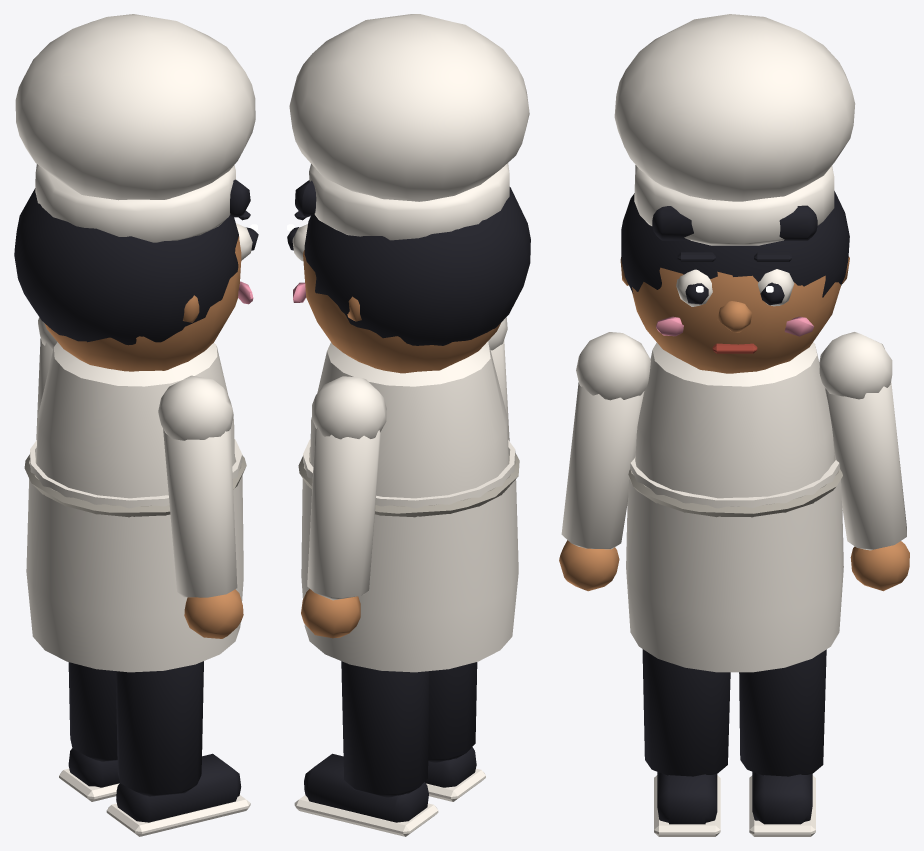
Rendered from ped_chef.glb.
3 renders of one model, left to right at view 1: azimuth 30°, elevation 25°; view 2: azimuth 150°, elevation 25°; view 3: azimuth 270°, elevation 25°, orthographic.
Visible parts, largest first — view 1: ped_chef; view 2: ped_chef; view 3: ped_chef.
Boxes of the visible parts, bbox=[...] form: ped_chef: bbox=[14, 14, 258, 836]; ped_chef: bbox=[287, 14, 530, 836]; ped_chef: bbox=[559, 14, 909, 836].
Size of the model in its own units: 0.4688 by 1.64 by 0.6737.
Materials: 1 (1 with a texture image).
